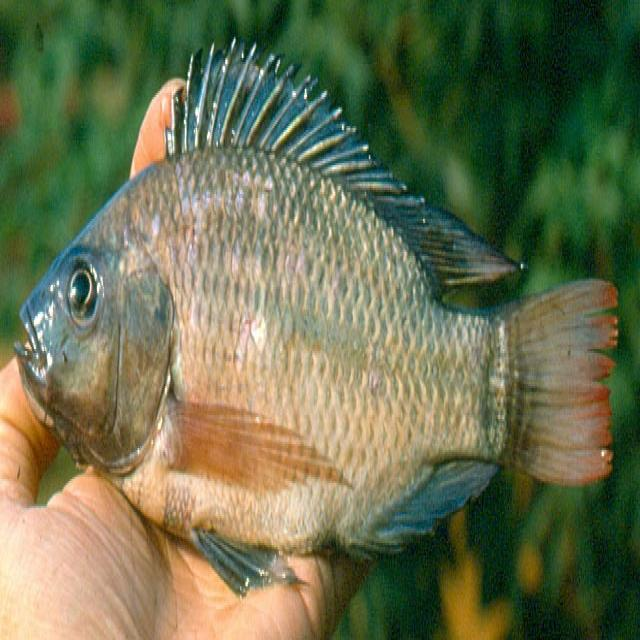ikan: (13, 33, 619, 599)
